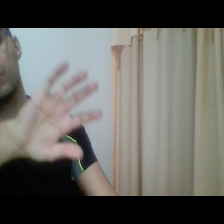left: (8, 55, 105, 163)
